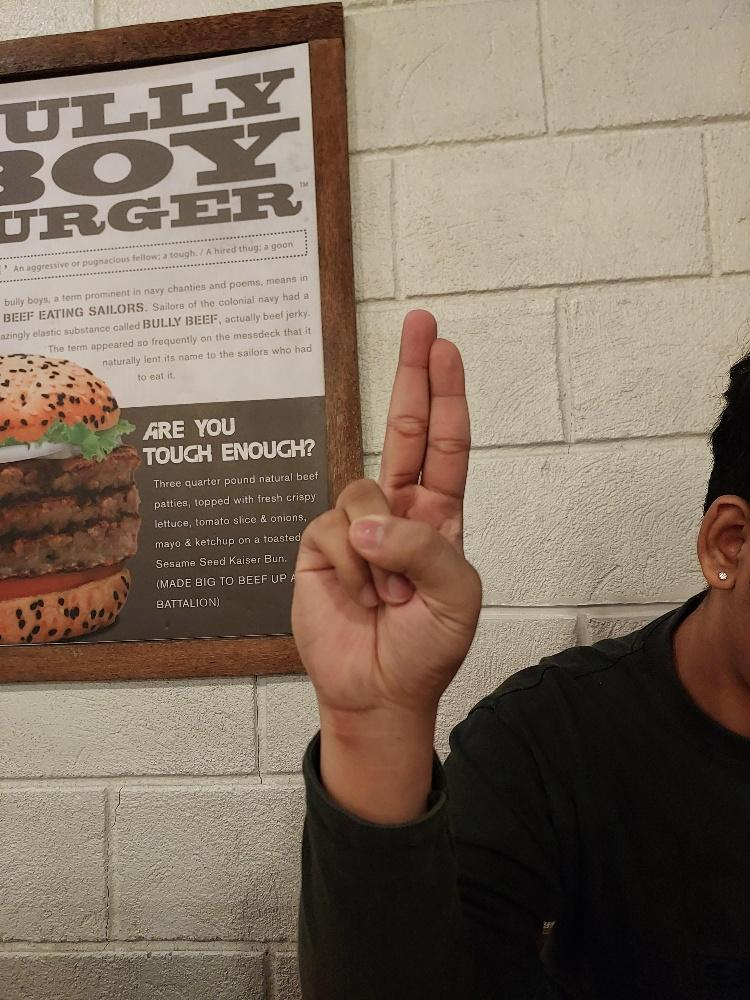u: (288, 306, 486, 715)
